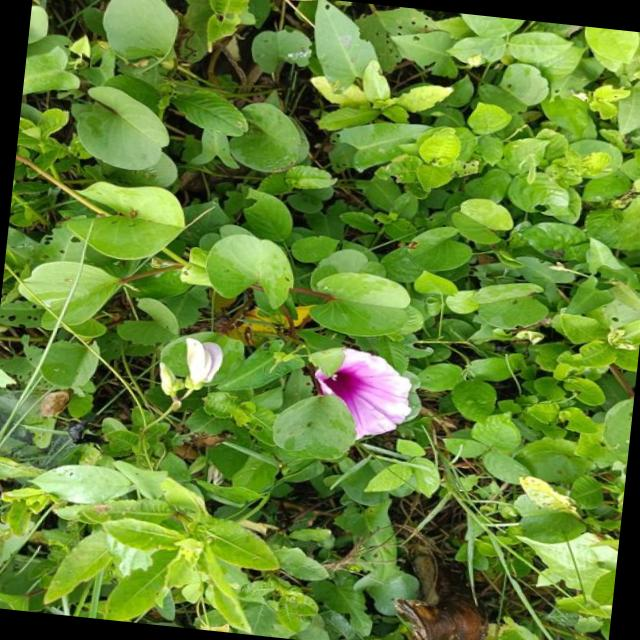ipomoea: (302, 342, 421, 448), (149, 331, 229, 406)
